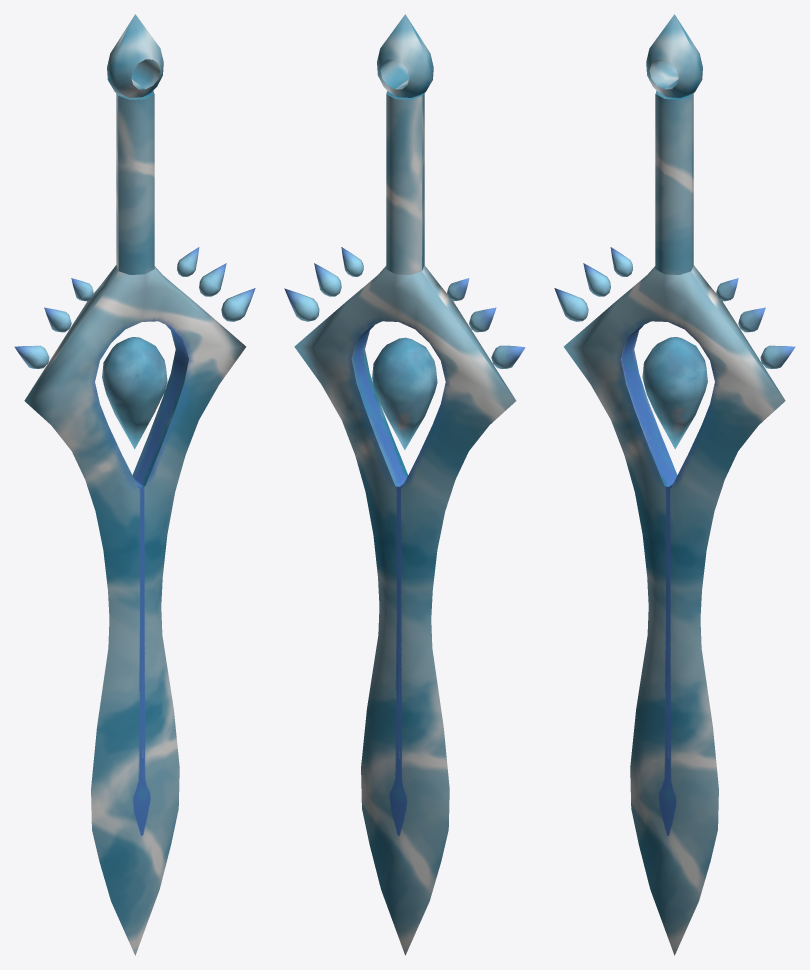
The model's file is Water_sword.dae.
The picture shows the model from 3 angles, left to right: view 1: azimuth 30°, elevation 25°; view 2: azimuth 150°, elevation 25°; view 3: azimuth 330°, elevation 25°; orthographic projection.
Visible parts, largest first — view 1: Water_sword, A drop, lit_drops; view 2: Water_sword, A drop, lit_drops; view 3: Water_sword, A drop, lit_drops.
Part boxes in pixels (box(x1,y1,x2,y2)): Water_sword: box(24, 14, 246, 955); A drop: box(102, 337, 167, 449); lit_drops: box(14, 247, 255, 368); Water_sword: box(294, 14, 516, 955); A drop: box(372, 337, 437, 449); lit_drops: box(284, 247, 525, 368); Water_sword: box(563, 14, 785, 955); A drop: box(642, 337, 707, 449); lit_drops: box(554, 247, 795, 368).
Size of the model in its own units: 1.82 by 0.4283 by 6.79.
